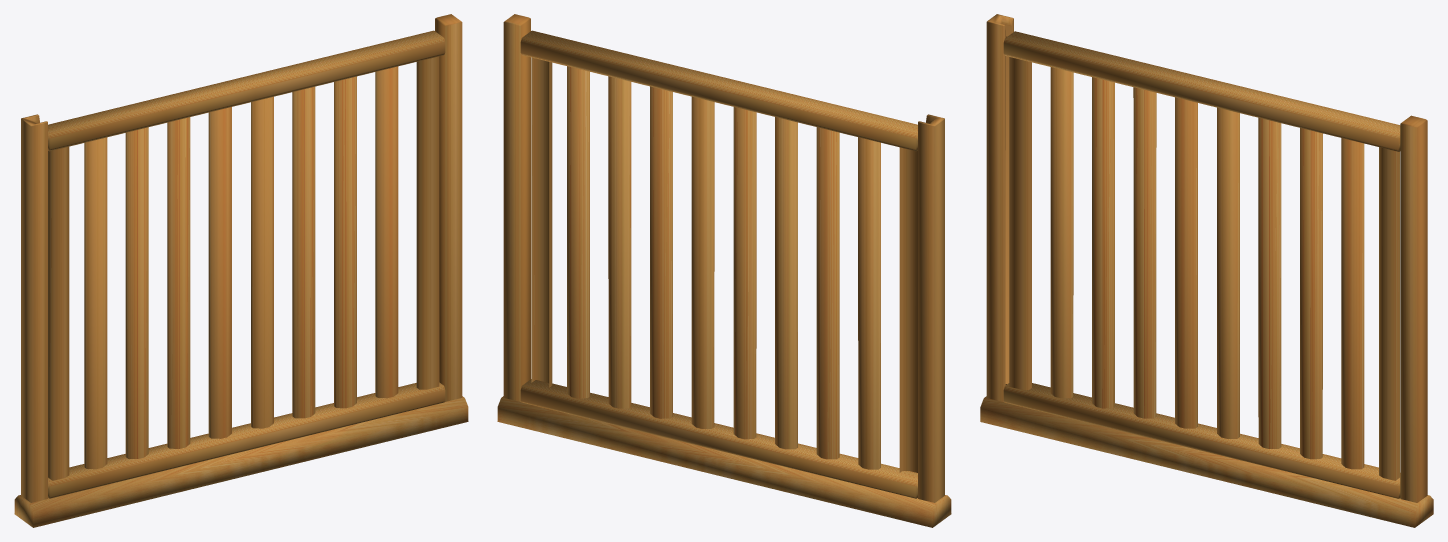
File: Grind.glb
The picture shows the model from 3 angles, left to right: view 1: azimuth 30°, elevation 25°; view 2: azimuth 150°, elevation 25°; view 3: azimuth 330°, elevation 25°; orthographic projection.
Visible parts, largest first — view 1: Grind; view 2: Grind; view 3: Grind.
Boxes of the visible parts, x1=… form: Grind: x1=14, y1=14, x2=468, y2=527; Grind: x1=497, y1=14, x2=951, y2=527; Grind: x1=980, y1=14, x2=1433, y2=527.
Size of the model in its own units: 0.8 by 0.7 by 0.06.
Materials: 1 (1 with a texture image).
